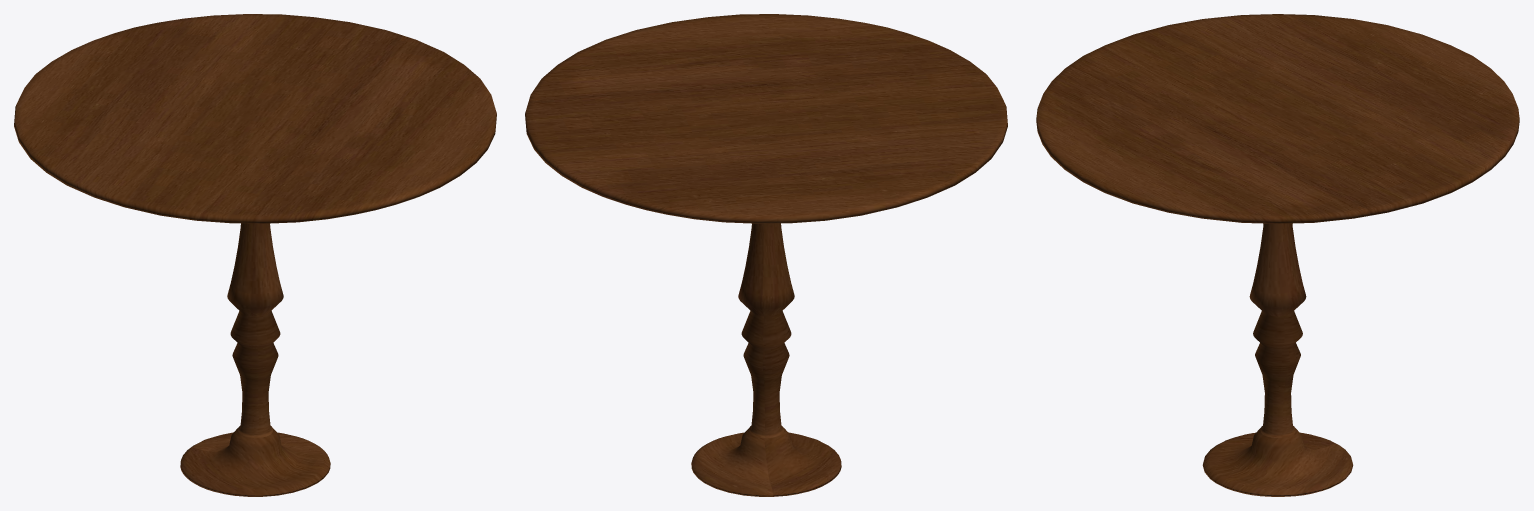
File: round_table.glb
The picture shows the model from 3 angles, left to right: view 1: azimuth 30°, elevation 25°; view 2: azimuth 150°, elevation 25°; view 3: azimuth 270°, elevation 25°; orthographic projection.
Parts seen in each view (by area): view 1: round_table; view 2: round_table; view 3: round_table.
Boxes of the visible parts, box(x1,y1,x2,y2) form: round_table: box(14, 14, 496, 496); round_table: box(525, 14, 1007, 496); round_table: box(1036, 14, 1519, 496).
Size of the model in its own units: 1.99 by 1.59 by 1.99.
1 material, 1 textured.
